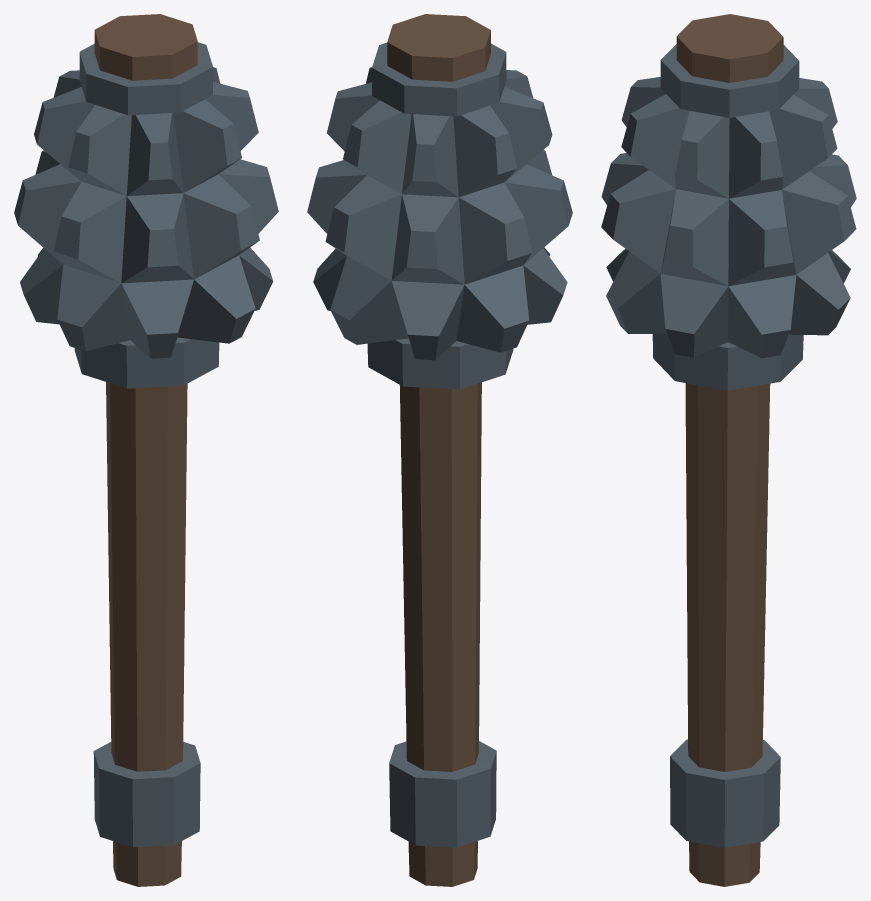
The model's file is TrollClub.fbx.
3 renders of one model, left to right at view 1: azimuth 30°, elevation 25°; view 2: azimuth 150°, elevation 25°; view 3: azimuth 270°, elevation 25°, orthographic.
Parts seen in each view (by area): view 1: TrollClub; view 2: TrollClub; view 3: TrollClub.
Boxes of the visible parts, x1,y1,x2,y2 form: TrollClub: [14, 14, 278, 886]; TrollClub: [307, 14, 572, 886]; TrollClub: [601, 14, 856, 886].
Size of the model in its own units: 314 by 1135 by 314.
